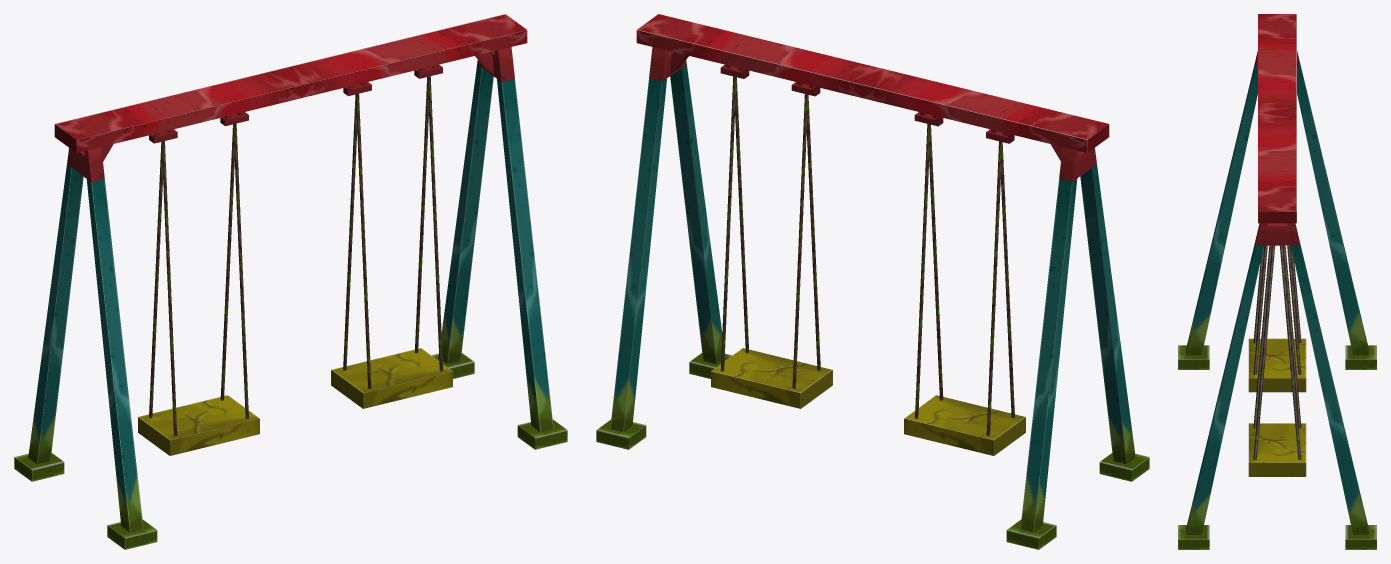
File: Swing.fbx
3 views of the same model, side by side, from view 1: azimuth 30°, elevation 25°; view 2: azimuth 150°, elevation 25°; view 3: azimuth 270°, elevation 25° (orthographic). The views are drawn at different scales.
Parts seen in each view (by area): view 1: Cube.009; view 2: Cube.009; view 3: Cube.009.
Boxes of the visible parts, box(x1,y1,x2,y2) form: Cube.009: box(14, 14, 567, 549); Cube.009: box(596, 14, 1149, 549); Cube.009: box(1178, 14, 1376, 549).
Size of the model in its own units: 371 by 298 by 158.
